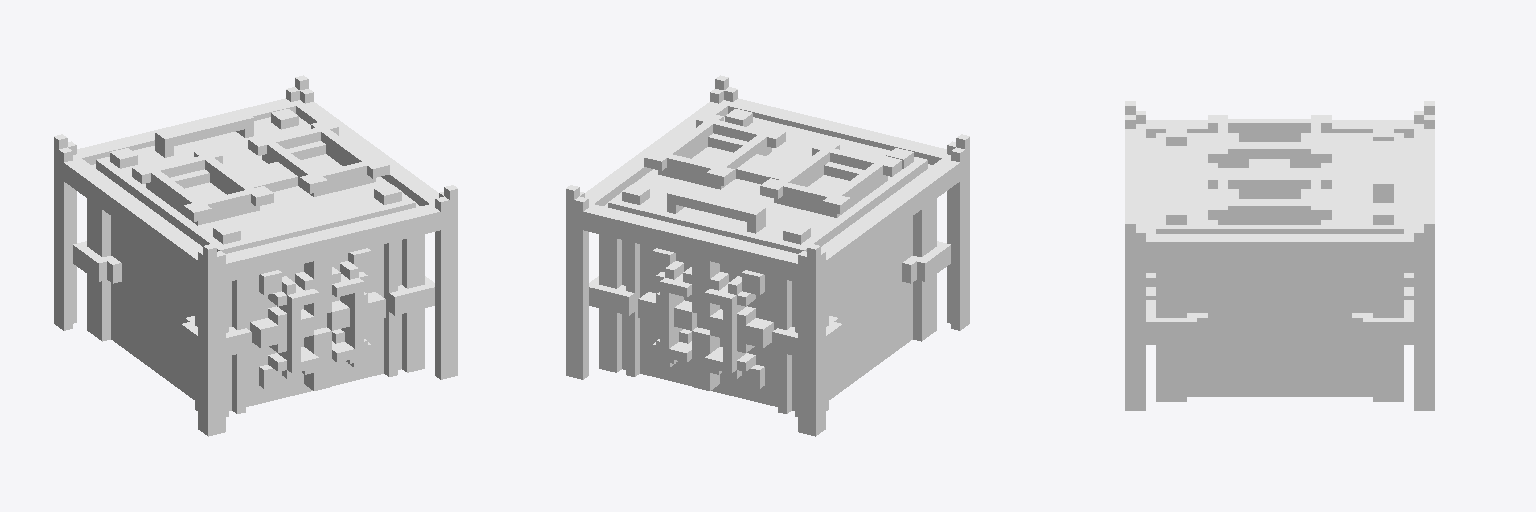
The model's file is LentesA.obj.
The picture shows the model from 3 angles: view 1: azimuth 30°, elevation 25°; view 2: azimuth 150°, elevation 25°; view 3: azimuth 270°, elevation 25°; orthographic projection.
Parts seen in each view (by area): view 1: object 1; view 2: object 1; view 3: object 1.
Boxes of the visible parts, <box> form: object 1: <box>54,75,457,436</box>; object 1: <box>566,75,969,436</box>; object 1: <box>1125,101,1434,410</box>.
Size of the model in its own units: 2.8 by 2 by 3.